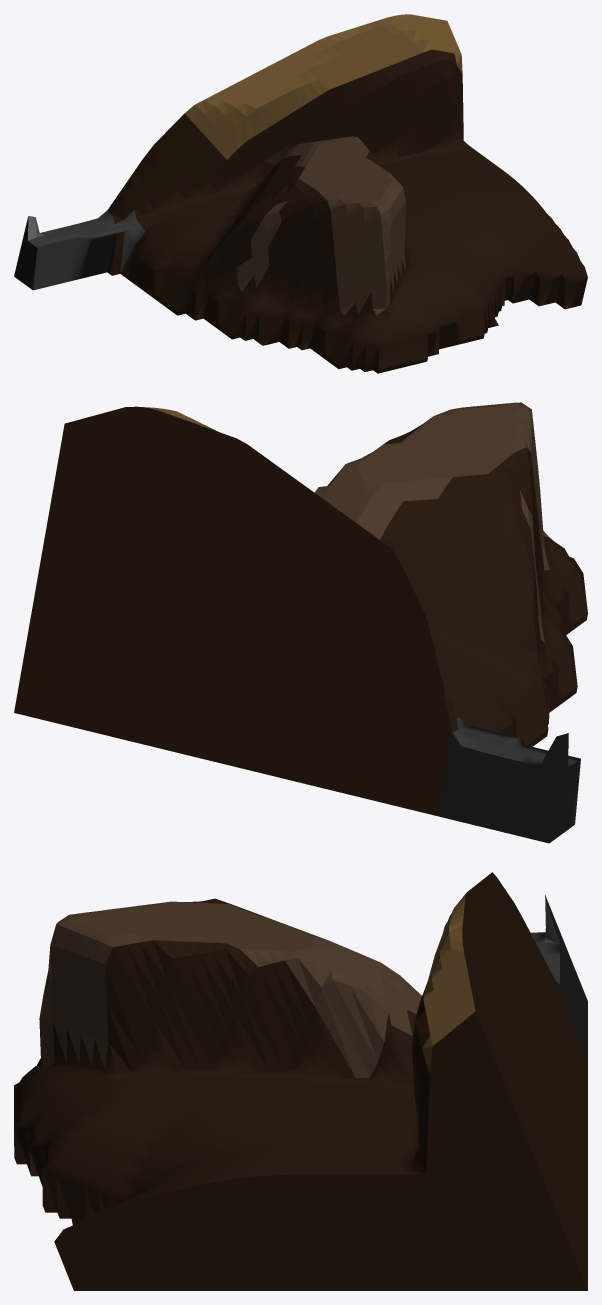
Rendered from ixm_boss_275.glb.
3 views of the same model, one above another, from view 1: azimuth 30°, elevation 25°; view 2: azimuth 150°, elevation 25°; view 3: azimuth 270°, elevation 25° (orthographic). The views are drawn at different scales.
Visible parts, largest first — view 1: ixm_boss_275; view 2: ixm_boss_275; view 3: ixm_boss_275.
Part boxes in pixels (<box>): ixm_boss_275: <box>14,14,587,373</box>; ixm_boss_275: <box>14,402,587,843</box>; ixm_boss_275: <box>14,872,587,1290</box>.
Bounding box in the file's own units: 24 × 12.09 × 20.1.
